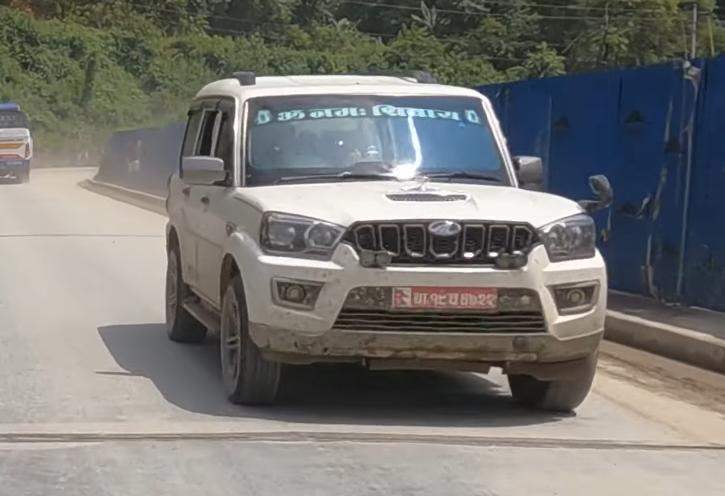SUV: (164, 66, 608, 421)
bus: (0, 93, 36, 187)
